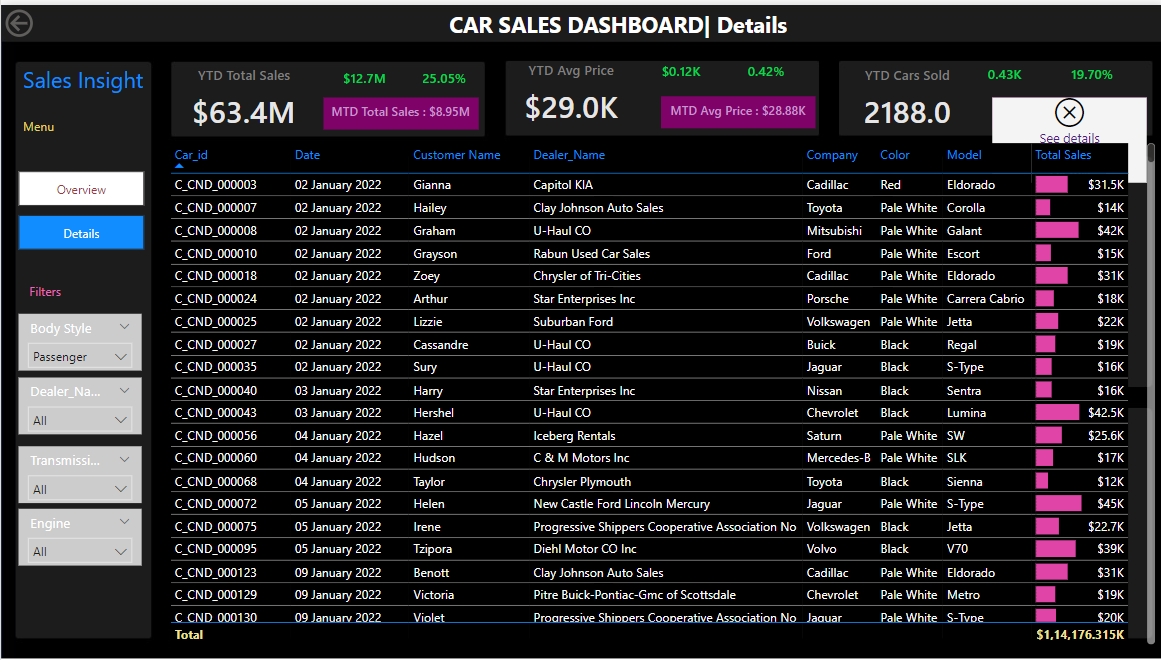

Layout of this report page (visuals, bound fields, positions):
{"tool":"powerbi","page":{"name":"Details","canvas":[1280,720],"ordinal":1},"visuals":[{"type":"card","title":"YTD Total Sales","fields":{"Values":["car_data.YTD Total Sales"]},"box":[180,65.4,174.1,81.8],"z":0},{"type":"card","fields":{"Values":["car_data.Sales Difference"]},"box":[367.2,65.8,63.1,24.2],"z":1000},{"type":"card","fields":{"Values":["car_data.YoY Sales Growth"]},"box":[455.1,65.8,62.4,24.2],"z":2000},{"type":"card","fields":{"Values":["car_data.MTD KPI"]},"box":[354,101.4,170.1,35.3],"z":3000},{"type":"card","title":"YTD Avg Price","fields":{"Values":["car_data.YTD Avg Price"]},"box":[553,60.2,145.9,81.8],"z":4000},{"type":"card","fields":{"Values":["car_data.Avg Price Diff"]},"box":[712.6,60.2,69.4,29.4],"z":5000},{"type":"card","fields":{"Values":["car_data.YoY Avg Price Growth"]},"box":[805.6,60.2,69.4,29.4],"z":6000},{"type":"card","fields":{"Values":["car_data.MTD Avg Price KPI"]},"box":[724.9,100.7,169.8,35.6],"z":7000},{"type":"card","title":"YTD Cars Sold","fields":{"Values":["car_data.YTD Cars Sold"]},"box":[922,65.4,145.9,81.8],"z":8000},{"type":"card","fields":{"Values":["car_data.Cars Sold Diff"]},"box":[1067.9,63.1,69.1,29.5],"z":9000},{"type":"card","fields":{"Values":["car_data.YoY Car Sold Growth"]},"box":[1163.9,63.1,69.1,29.5],"z":10000},{"type":"card","fields":{"Values":["car_data.MTD Cars Sold KPI"]},"box":[1088.7,101.4,169.8,35.6],"z":11000},{"type":"textbox","box":[486.6,0,448.4,43.6],"z":17000},{"type":"slicer","fields":{"Values":["car_data.Body Style"]},"box":[18.8,338.3,134.9,62.4],"z":18000},{"type":"slicer","fields":{"Values":["car_data.Dealer_Name"]},"box":[18.8,409.4,134.9,62.4],"z":19000},{"type":"slicer","fields":{"Values":["car_data.Transmission"]},"box":[18.8,483.9,134.9,62.4],"z":20000},{"type":"slicer","fields":{"Values":["car_data.Engine"]},"box":[18.8,553.1,134.9,62.4],"z":21000},{"type":"textbox","box":[25.5,300.7,75.8,27.5],"z":22000},{"type":"tableEx","fields":{"Values":["car_data.Car_id","car_data.Date","car_data.Customer Name","car_data.Dealer_Name","car_data.Company","car_data.Color","car_data.Model","car_data.Price ($)"]},"box":[179.9,147,1092.1,560.5],"z":22001},{"type":"actionButton","box":[0,0,100,40],"z":22002},{"type":"textbox","box":[18.8,60.4,147.7,75.8],"z":22003},{"type":"pageNavigator","box":[18.8,181.9,138.9,86.6],"z":22004},{"type":"textbox","box":[18.8,118.8,121.5,63.8],"z":22005}]}

Visuals, with their boxes on the page's 1280x720 design canvas (x1, y1, x2, y2). These are canvas units, not pixel positions in the 1161x660 screenshot, which may show the page scaled, cropped or inside an application window:
"YTD Total Sales" card: (180, 65, 354, 147)
card - car_data.Sales Difference: (367, 66, 430, 90)
card - car_data.YoY Sales Growth: (455, 66, 518, 90)
card - car_data.MTD KPI: (354, 101, 524, 137)
"YTD Avg Price" card: (553, 60, 699, 142)
card - car_data.Avg Price Diff: (713, 60, 782, 90)
card - car_data.YoY Avg Price Growth: (806, 60, 875, 90)
card - car_data.MTD Avg Price KPI: (725, 101, 895, 136)
"YTD Cars Sold" card: (922, 65, 1068, 147)
card - car_data.Cars Sold Diff: (1068, 63, 1137, 93)
card - car_data.YoY Car Sold Growth: (1164, 63, 1233, 93)
card - car_data.MTD Cars Sold KPI: (1089, 101, 1258, 137)
textbox: (487, 0, 935, 44)
slicer - car_data.Body Style: (19, 338, 154, 401)
slicer - car_data.Dealer_Name: (19, 409, 154, 472)
slicer - car_data.Transmission: (19, 484, 154, 546)
slicer - car_data.Engine: (19, 553, 154, 616)
textbox: (26, 301, 101, 328)
tableEx - car_data.Car_id x car_data.Date: (180, 147, 1272, 708)
actionButton: (0, 0, 100, 40)
textbox: (19, 60, 166, 136)
pageNavigator: (19, 182, 158, 268)
textbox: (19, 119, 140, 183)
